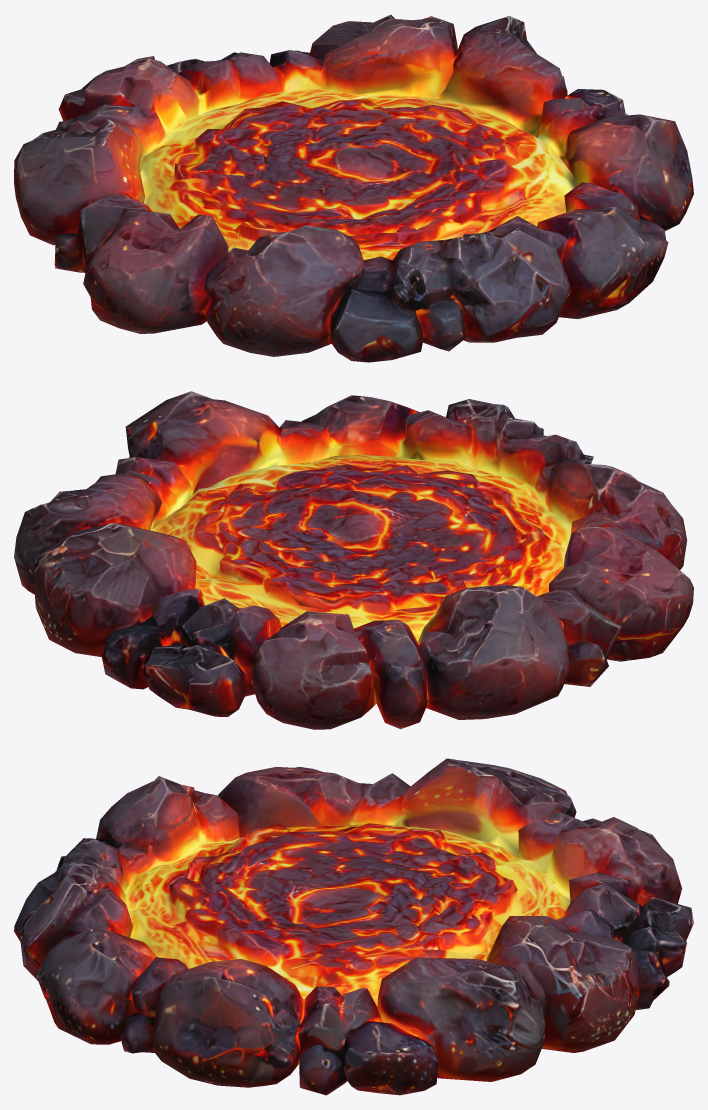
File: lava+pool+3d+model.obj
The picture shows the model from 3 angles, top to bottom: view 1: azimuth 30°, elevation 25°; view 2: azimuth 150°, elevation 25°; view 3: azimuth 270°, elevation 25°; orthographic projection.
Parts seen in each view (by area): view 1: tripo_node_21f9409b-2885-4d97-a252-856649974d46; view 2: tripo_node_21f9409b-2885-4d97-a252-856649974d46; view 3: tripo_node_21f9409b-2885-4d97-a252-856649974d46.
Boxes of the visible parts, left/top/right/bottom form: tripo_node_21f9409b-2885-4d97-a252-856649974d46: left=14, top=14, right=693, bottom=362; tripo_node_21f9409b-2885-4d97-a252-856649974d46: left=14, top=391, right=693, bottom=729; tripo_node_21f9409b-2885-4d97-a252-856649974d46: left=14, top=758, right=693, bottom=1095.
Bounding box in the file's own units: 0.9885 × 0.1976 × 1.
